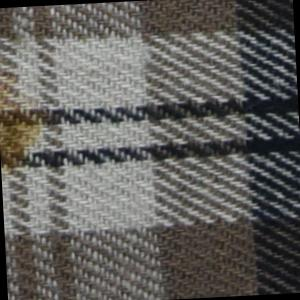Oil Stain: (1, 61, 54, 178)
